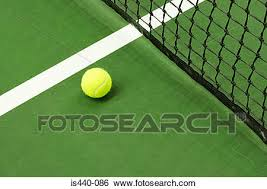tennis_ball: (81, 66, 112, 100)
